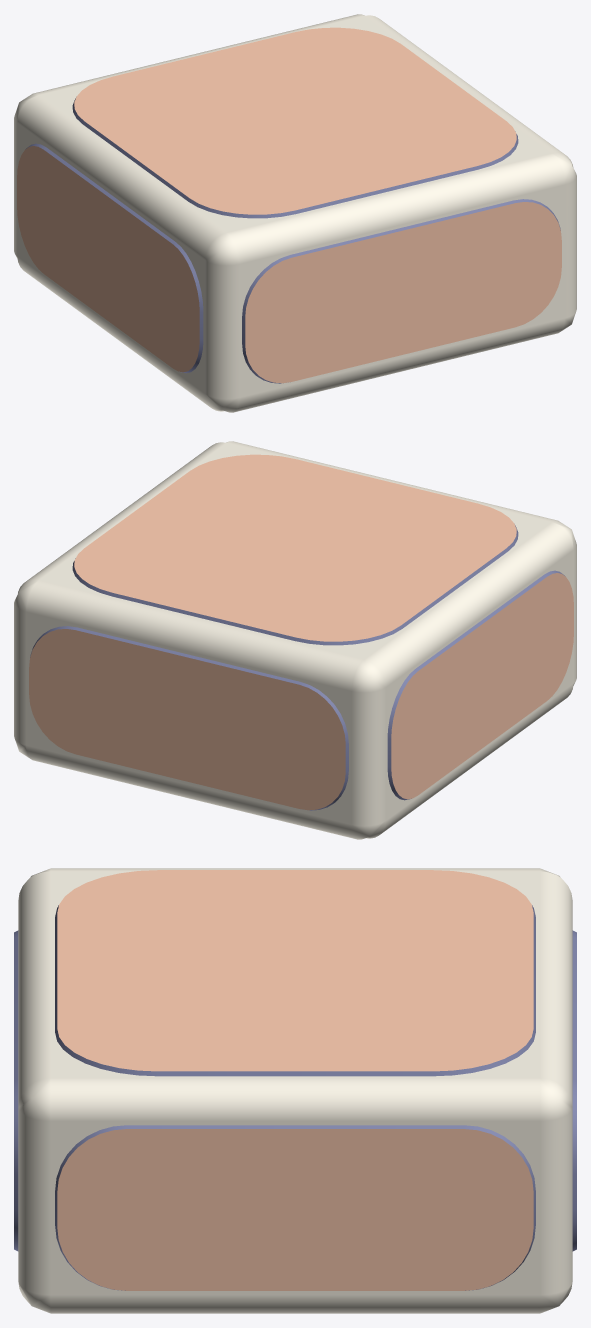
Rendered from R4B_HalfBlock.fbx.
3 views of the same model, one above another, from view 1: azimuth 30°, elevation 25°; view 2: azimuth 150°, elevation 25°; view 3: azimuth 270°, elevation 25° (orthographic). The views are drawn at different scales.
Parts seen in each view (by area): view 1: R4B_HalfBlock; view 2: R4B_HalfBlock; view 3: R4B_HalfBlock.
Boxes of the visible parts, left/top/right/bottom form: R4B_HalfBlock: left=14, top=14, right=576, bottom=412; R4B_HalfBlock: left=14, top=441, right=576, bottom=839; R4B_HalfBlock: left=14, top=868, right=576, bottom=1313.
Size of the model in its own units: 0.52 by 0.245 by 0.52.
